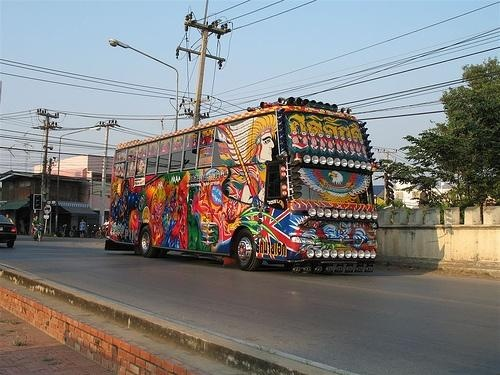bus: (105, 98, 378, 274)
